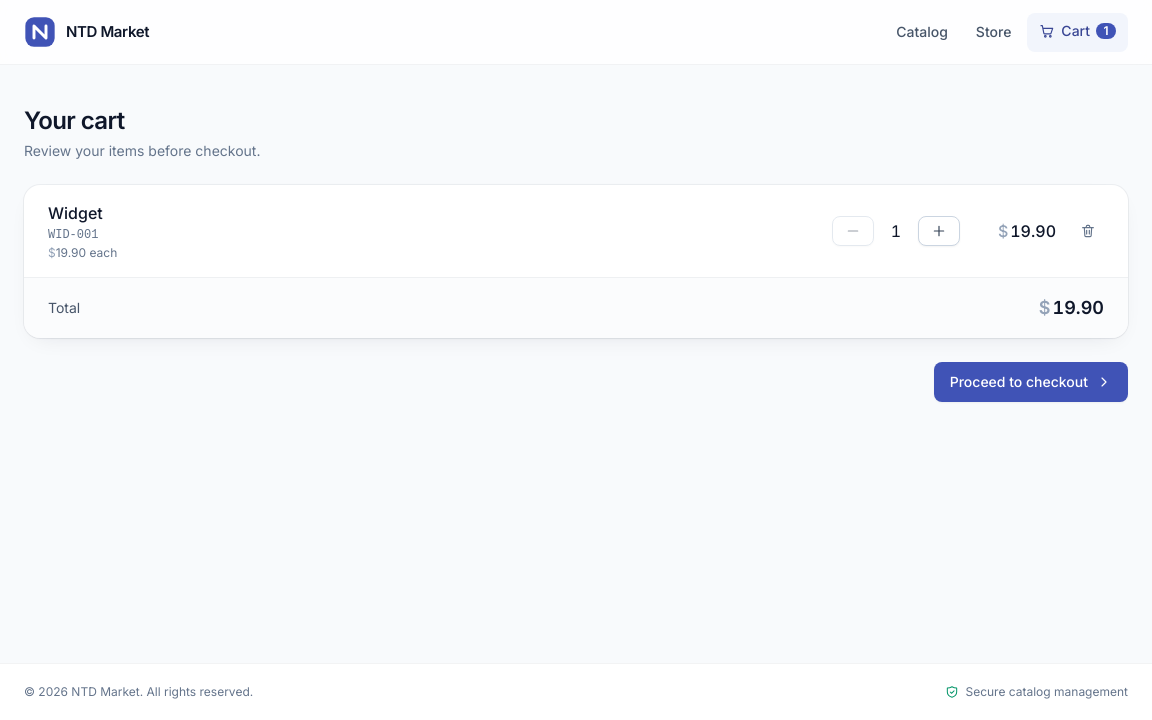
Test: CartPage › removes a line via DELETE and then shows the empty state
Expected: the text "Widget" is shown, [48, 203, 103, 223]
Click the button named "Remove Widget" at (1088, 231), box [1072, 215, 1104, 247]
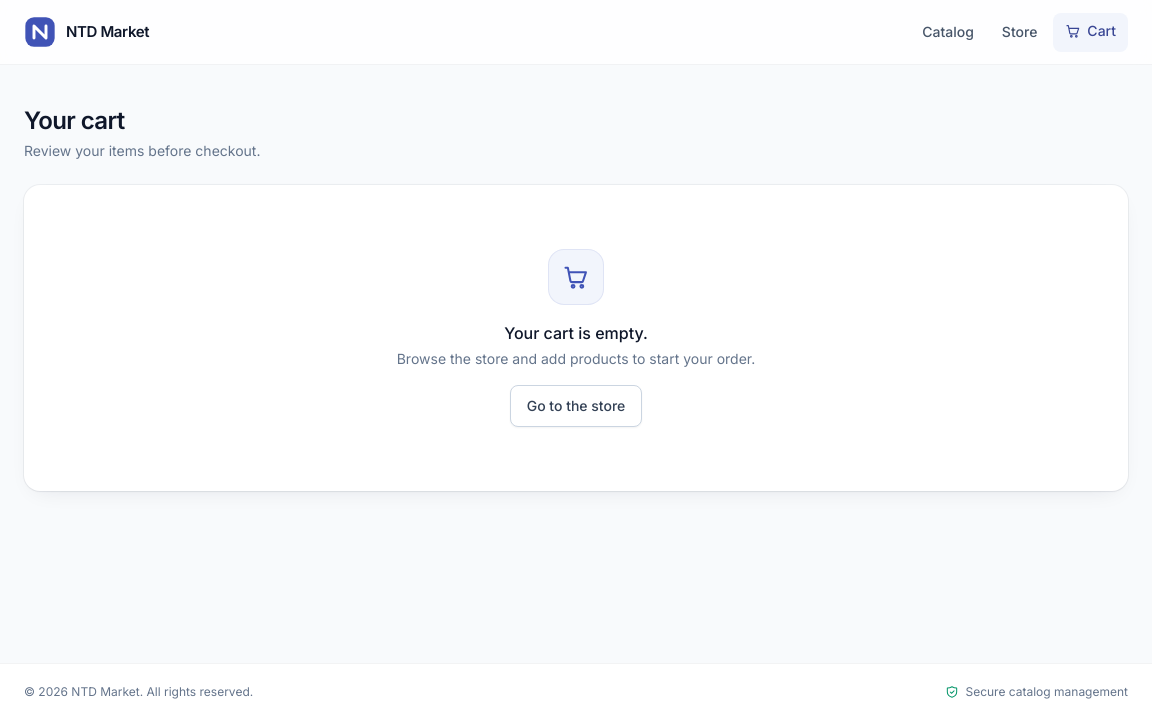
Expected: the text "Your cart is empty." is shown, [504, 323, 648, 343]
